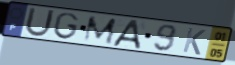9: (152, 23, 178, 53)
A: (111, 19, 143, 50)
G: (52, 12, 81, 41)
K: (181, 26, 208, 57)
M: (81, 15, 119, 46)
U: (23, 6, 57, 39)
